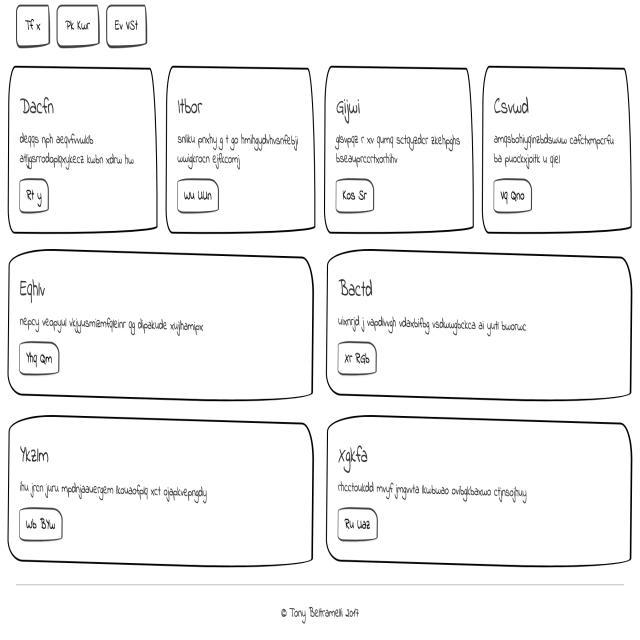Button: (16, 502, 75, 548), (171, 177, 227, 220), (332, 172, 378, 220), (15, 338, 62, 382), (13, 174, 58, 216), (335, 336, 381, 377), (492, 174, 537, 215)
Card: (8, 239, 315, 407), (326, 244, 636, 402), (3, 413, 314, 569), (328, 410, 633, 568), (322, 49, 476, 234), (166, 58, 316, 240), (6, 61, 158, 233)
Footer: (1, 578, 640, 640)
Heading 6: (18, 428, 64, 467), (12, 262, 52, 304), (335, 438, 381, 474), (492, 85, 535, 122), (17, 90, 69, 120), (334, 84, 369, 126), (172, 84, 209, 123), (338, 268, 381, 300)
Navigation Bar: (10, 0, 157, 54)
Paragraph: (334, 304, 558, 336), (174, 122, 301, 178), (18, 470, 232, 503), (17, 304, 228, 336), (336, 475, 539, 507), (15, 125, 139, 175), (490, 124, 624, 170), (332, 128, 466, 172), (332, 505, 378, 543)
